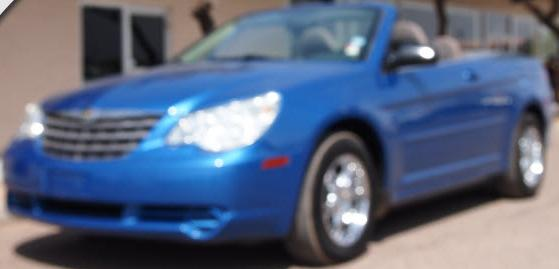front_view: (10, 91, 286, 225)
headlight: (166, 96, 296, 153)
side_glass: (390, 11, 508, 67)
